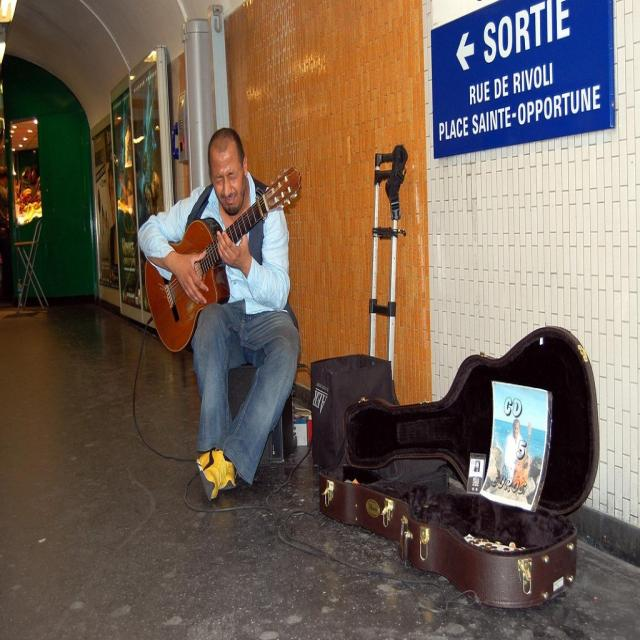guitar: (143, 168, 303, 354)
